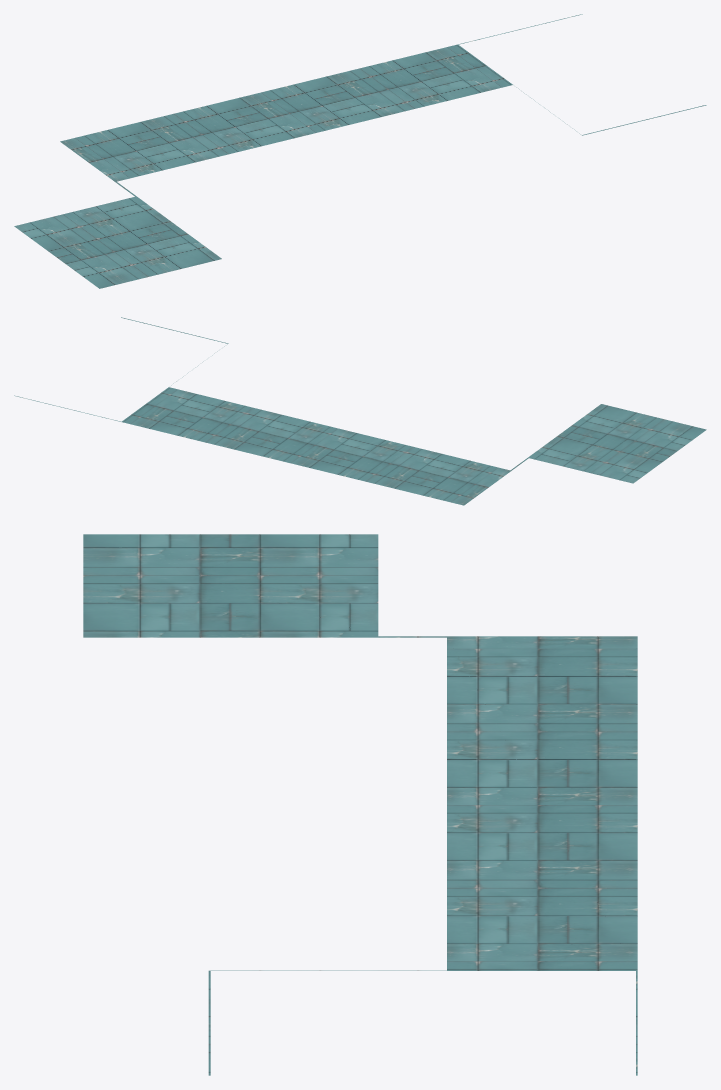
Rendered from brutalist-building-2-cbake.floor-2.hall.glb.
3 views of the same model, one above another, from view 1: azimuth 30°, elevation 25°; view 2: azimuth 150°, elevation 25°; view 3: azimuth 270°, elevation 25° (orthographic). The views are drawn at different scales.
Parts seen in each view (by area): view 1: floor; view 2: floor; view 3: floor.
Boxes of the visible parts, bbox=[...] form: floor: bbox=[14, 14, 706, 288]; floor: bbox=[14, 317, 706, 505]; floor: bbox=[83, 534, 637, 1075].
Size of the model in its own units: 29.53 by 0 by 12.79.
Materials: 1 (1 with a texture image).
